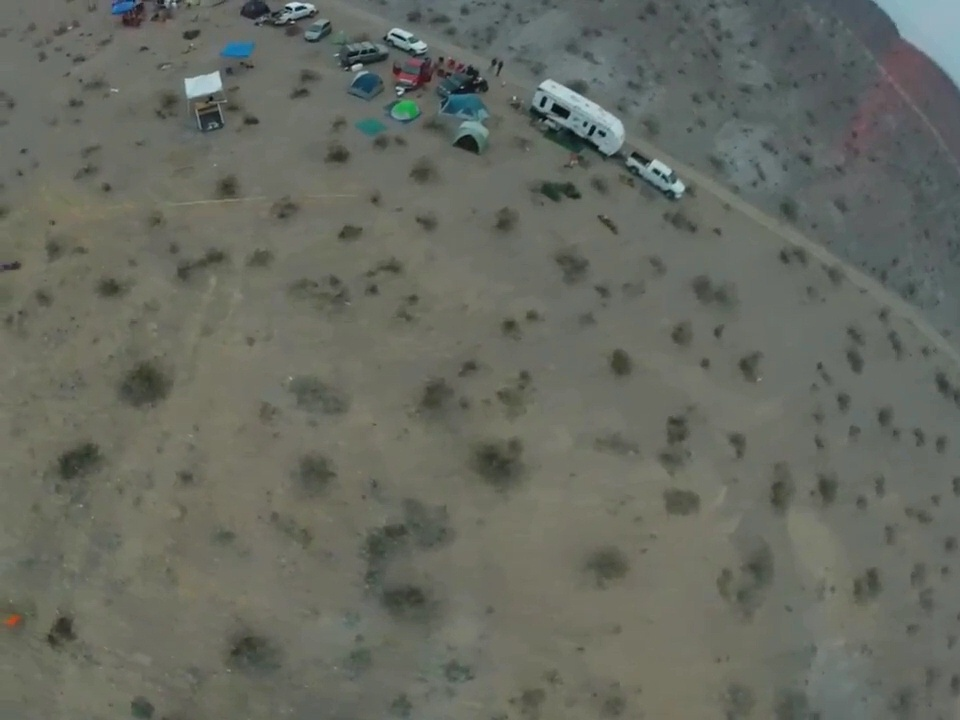araba: (340, 38, 389, 66), (383, 26, 431, 54), (303, 16, 332, 47)
kamyonet: (621, 147, 687, 200), (273, 2, 322, 28)
otobus: (528, 77, 629, 156)
